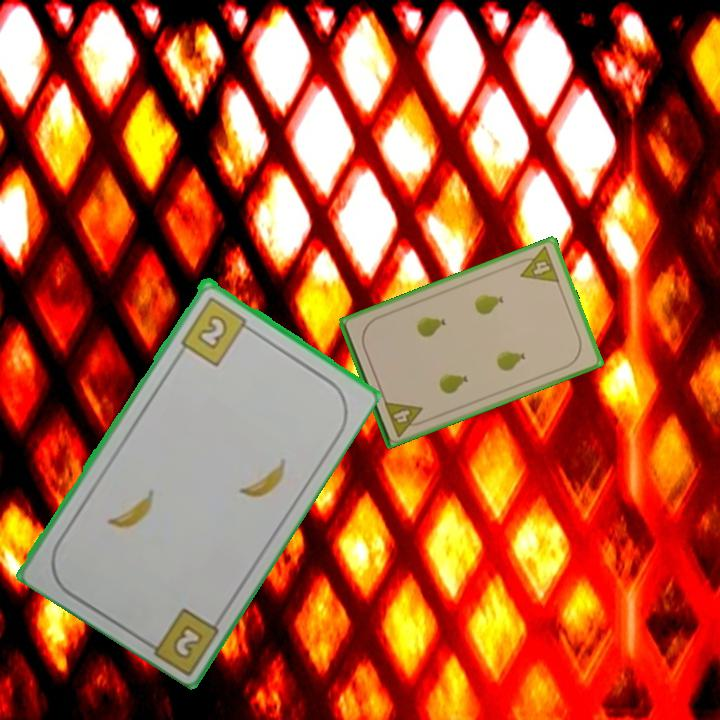2b: (177, 292, 256, 368), (168, 620, 207, 662)
4p: (512, 243, 563, 286), (380, 397, 429, 440)
